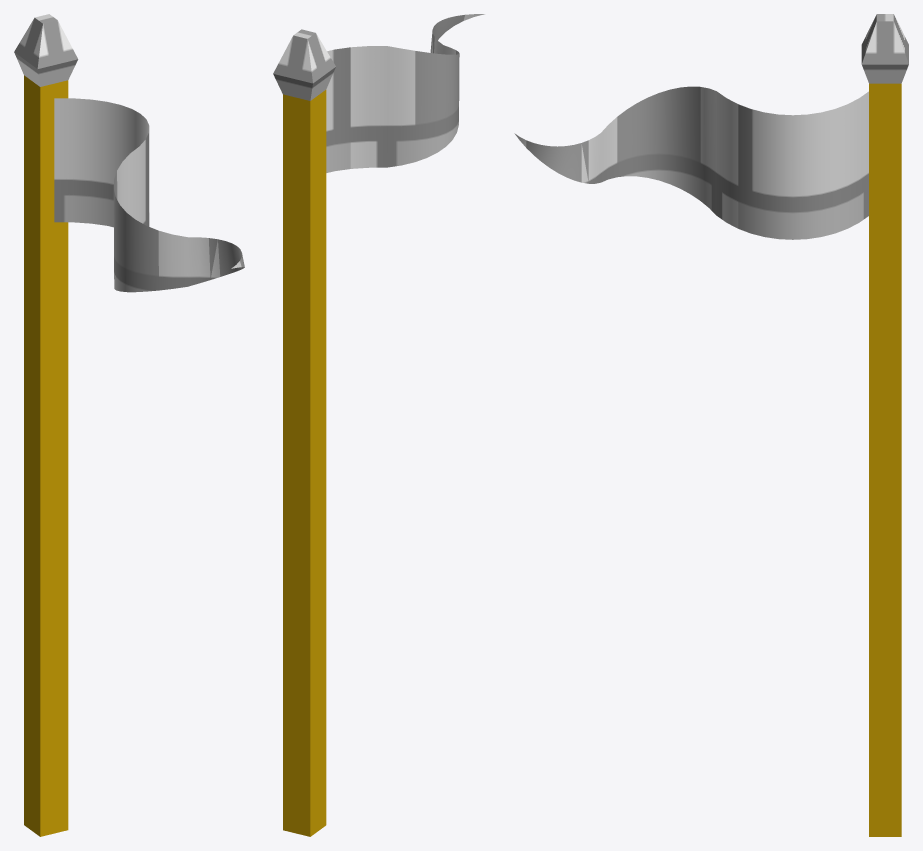
Rendered from kaczy_poziom_flaga.fbx.
3 views of the same model, side by side, from view 1: azimuth 30°, elevation 25°; view 2: azimuth 150°, elevation 25°; view 3: azimuth 270°, elevation 25° (orthographic). The views are drawn at different scales.
Visible parts, largest first — view 1: mergedBlocks; view 2: mergedBlocks; view 3: mergedBlocks.
Boxes of the visible parts, bbox=[...] form: mergedBlocks: bbox=[14, 14, 244, 836]; mergedBlocks: bbox=[273, 14, 484, 836]; mergedBlocks: bbox=[514, 14, 908, 836].
Size of the model in its own units: 0.8991 by 7.92 by 3.49.
Materials: 2 (1 with a texture image).
